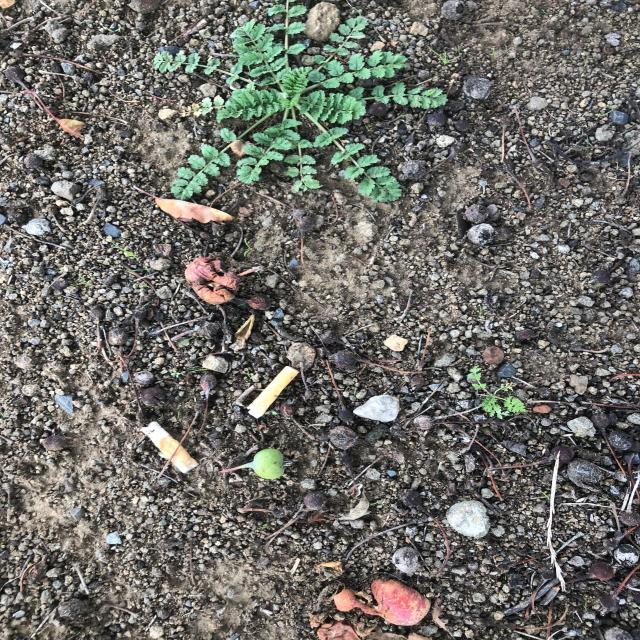Cigarette: (140, 421, 199, 473), (248, 366, 299, 418)
